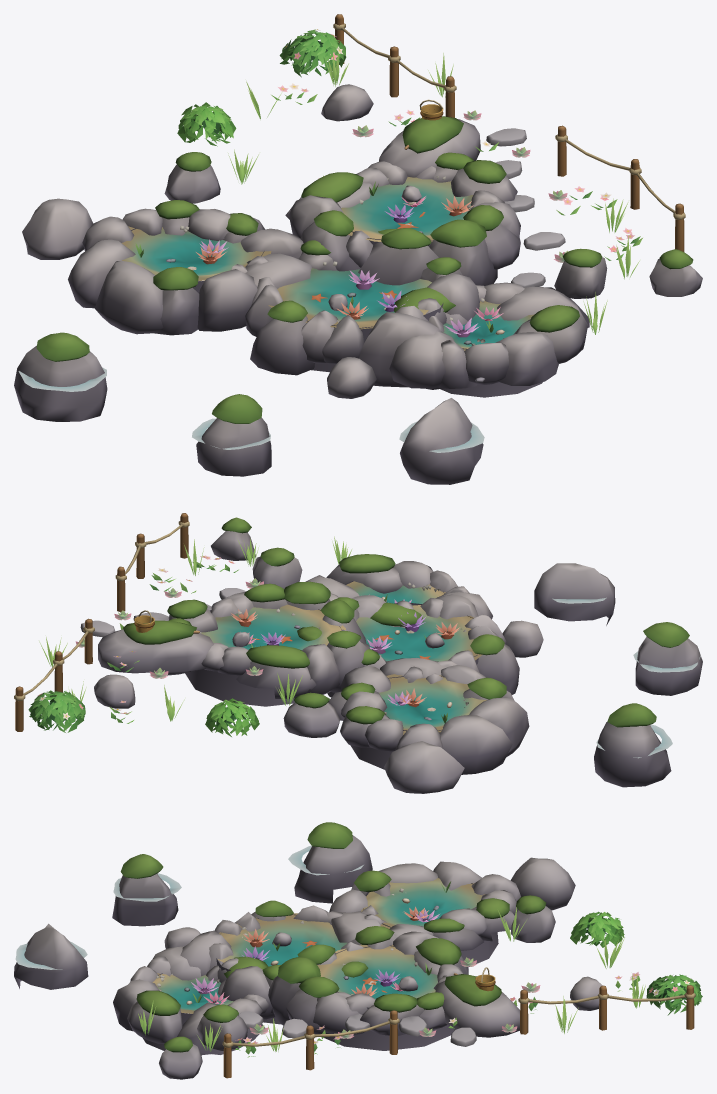
Rendered from poi-tidepools-0.glb.
3 renders of one model, top to bottom at view 1: azimuth 30°, elevation 25°; view 2: azimuth 150°, elevation 25°; view 3: azimuth 270°, elevation 25°, orthographic. The views are drawn at different scales.
Visible parts, largest first — view 1: body, leaf; view 2: body, leaf; view 3: body, leaf.
Boxes of the visible parts, x1,y1,x2,y2 form: body: (14, 14, 702, 484); leaf: (135, 29, 642, 334); body: (14, 513, 702, 793); leaf: (28, 536, 459, 736); body: (14, 822, 695, 1079); leaf: (138, 881, 702, 1057).
Size of the model in its own units: 12.8 by 2.71 by 14.32.
